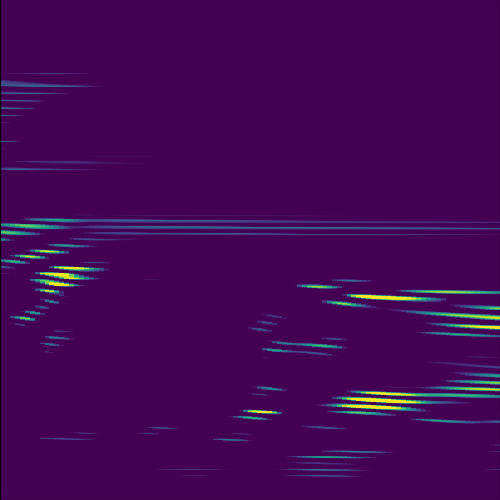semblance: (319, 388, 431, 422), (26, 263, 110, 295)
